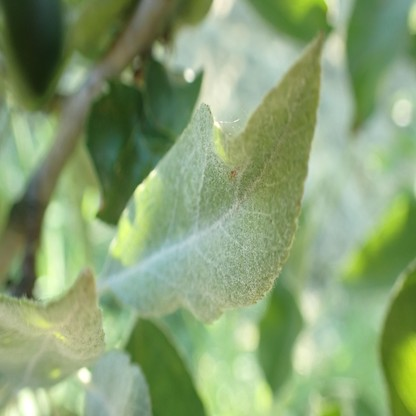powder: (102, 33, 326, 325), (1, 268, 107, 410), (86, 350, 150, 416)
